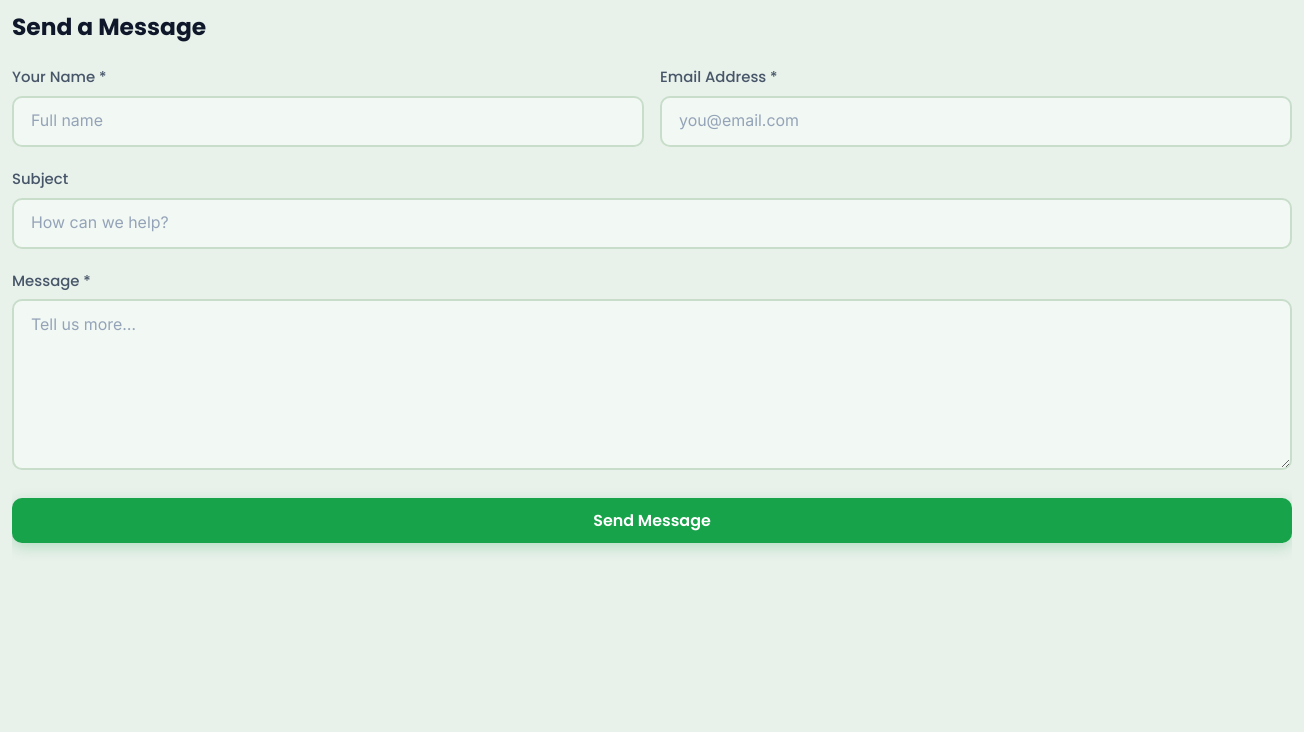
it: ContactForm › shows field errors and sends nothing when the form is empty
Click the button "Send Message": (652, 521) [12, 498, 1292, 543]
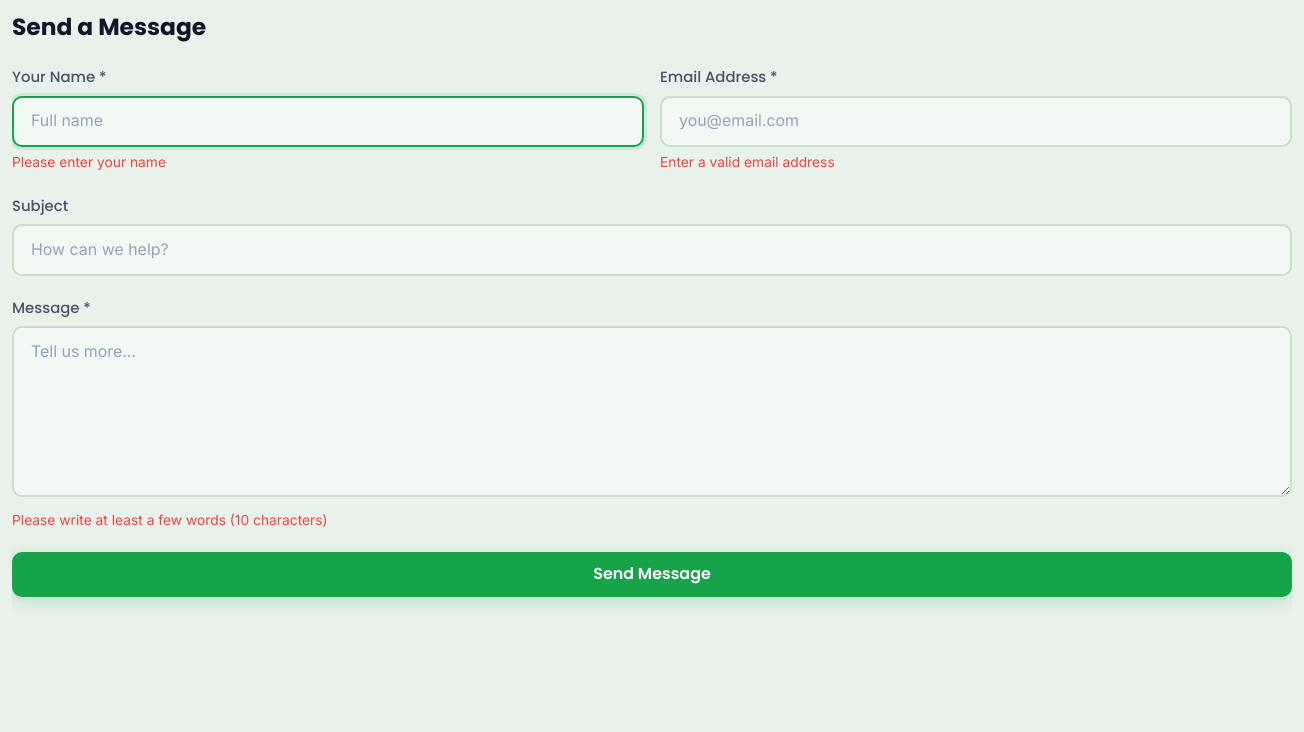
Result: the text "Please enter your name" is shown at [12, 154, 166, 170]
Result: the text "Enter a valid email address" is shown at [660, 154, 835, 170]
Result: the text "Please write at least a few words (10 characters)" is shown at [12, 512, 328, 528]
